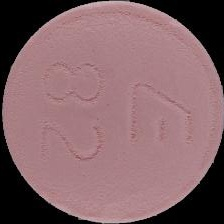54458-957: (0, 0, 224, 224)
